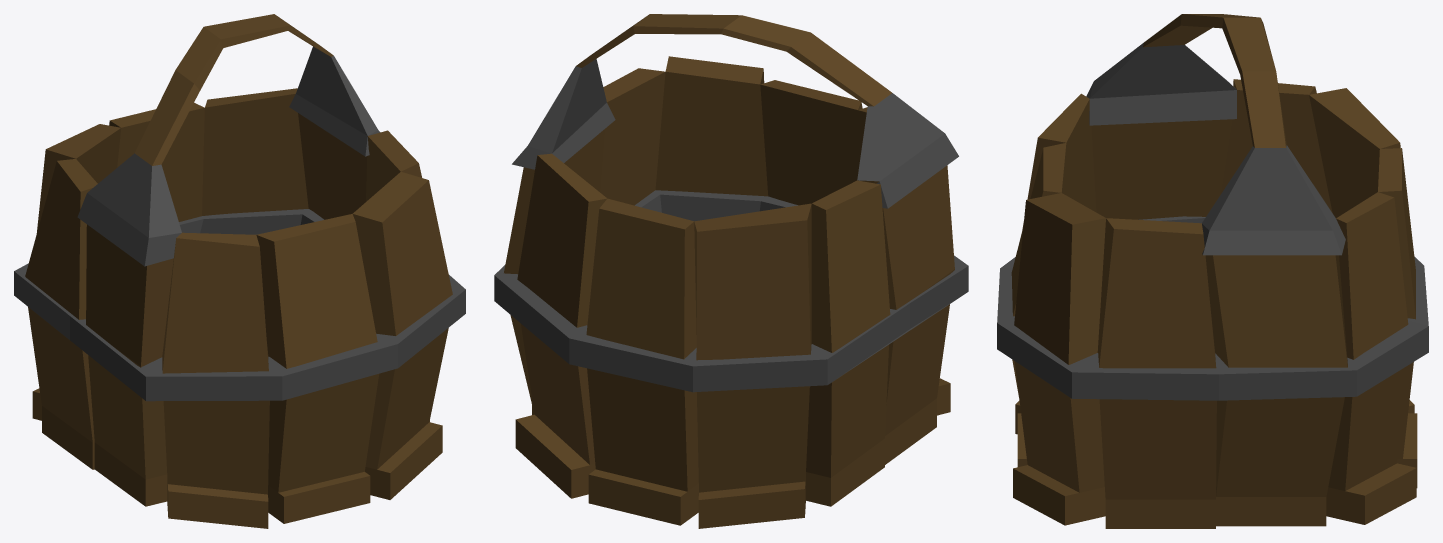
The model's file is Bucket.fbx.
The picture shows the model from 3 angles, left to right: view 1: azimuth 30°, elevation 25°; view 2: azimuth 150°, elevation 25°; view 3: azimuth 270°, elevation 25°; orthographic projection. The views are drawn at different scales.
Parts seen in each view (by area): view 1: Cube; view 2: Cube; view 3: Cube.
Part boxes in pixels (<box>): Cube: <box>14,14,465,528</box>; Cube: <box>494,14,968,528</box>; Cube: <box>997,14,1428,528</box>.
Bounding box in the file's own units: 260 × 300 × 266.
